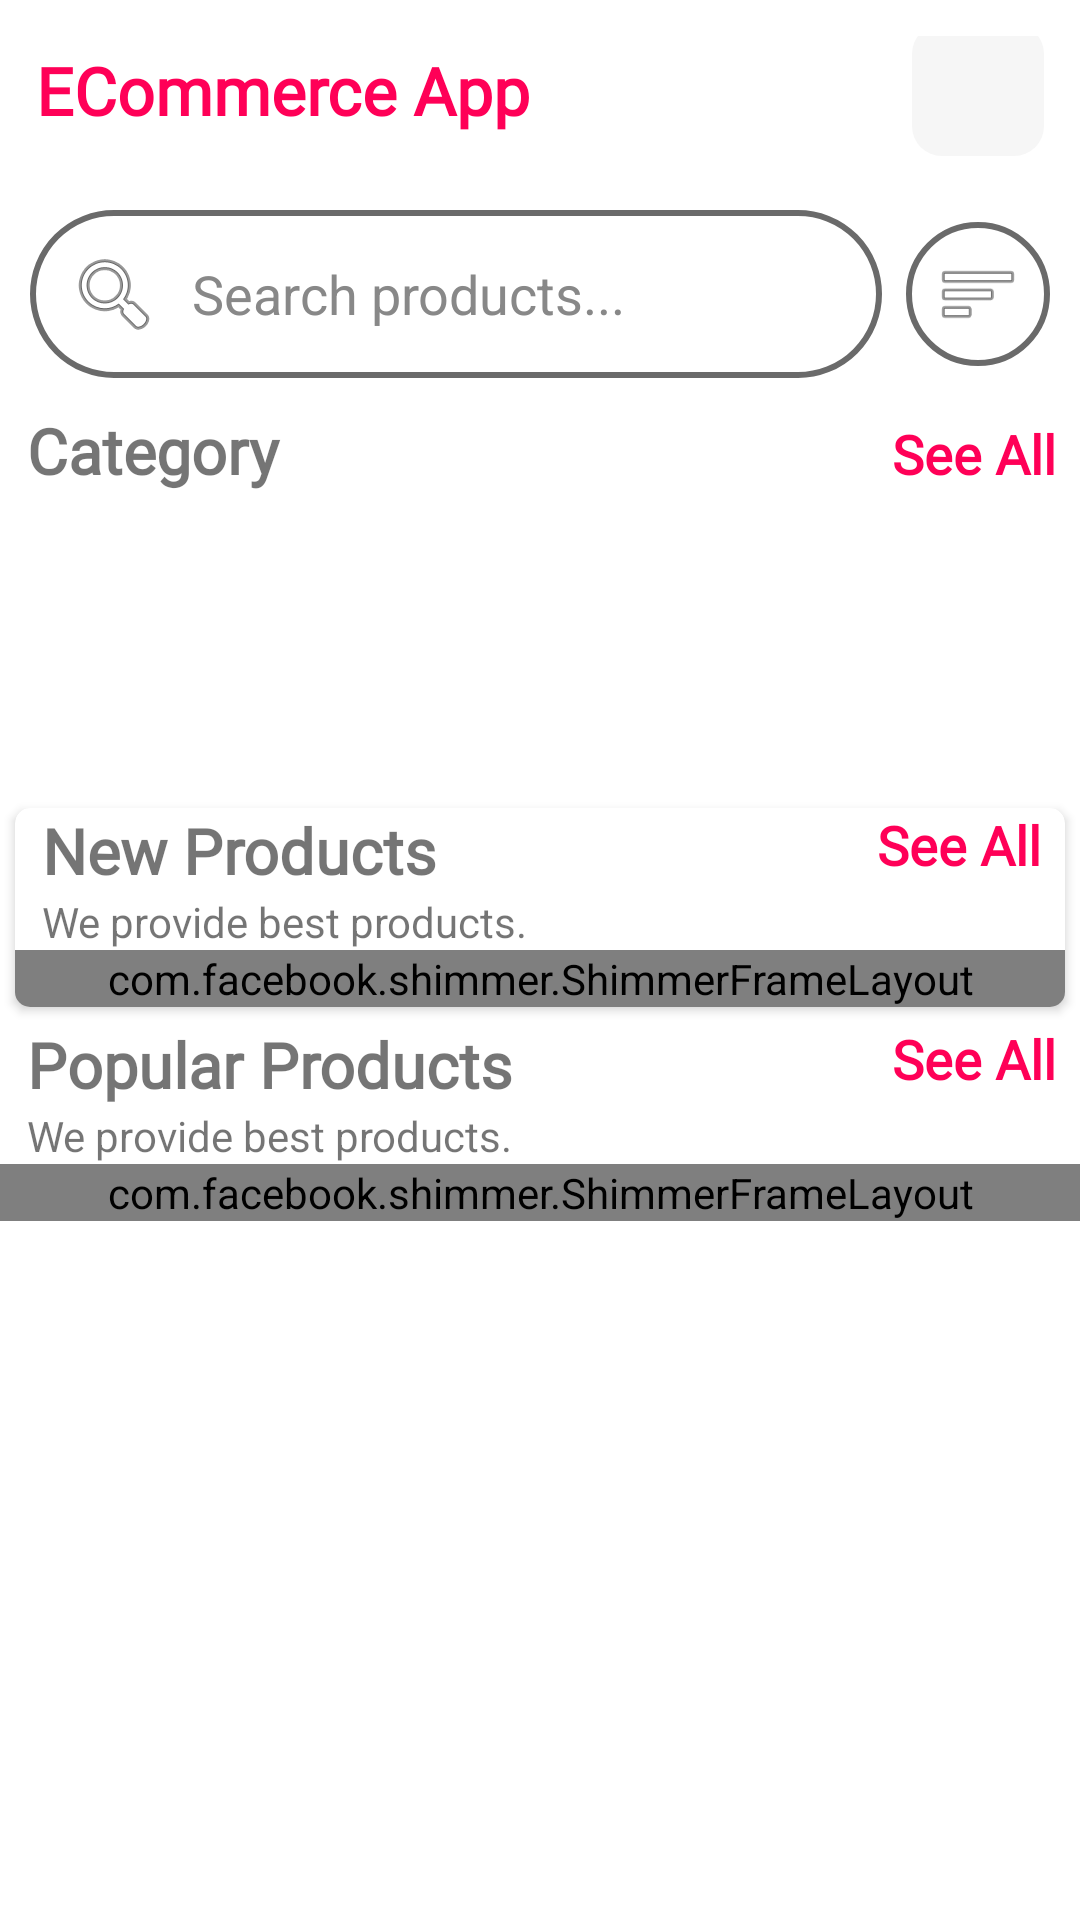

Icons on this 1080px x 1920px Android screen, each with the point to tap as (x,y):
Filter: (978,294)
